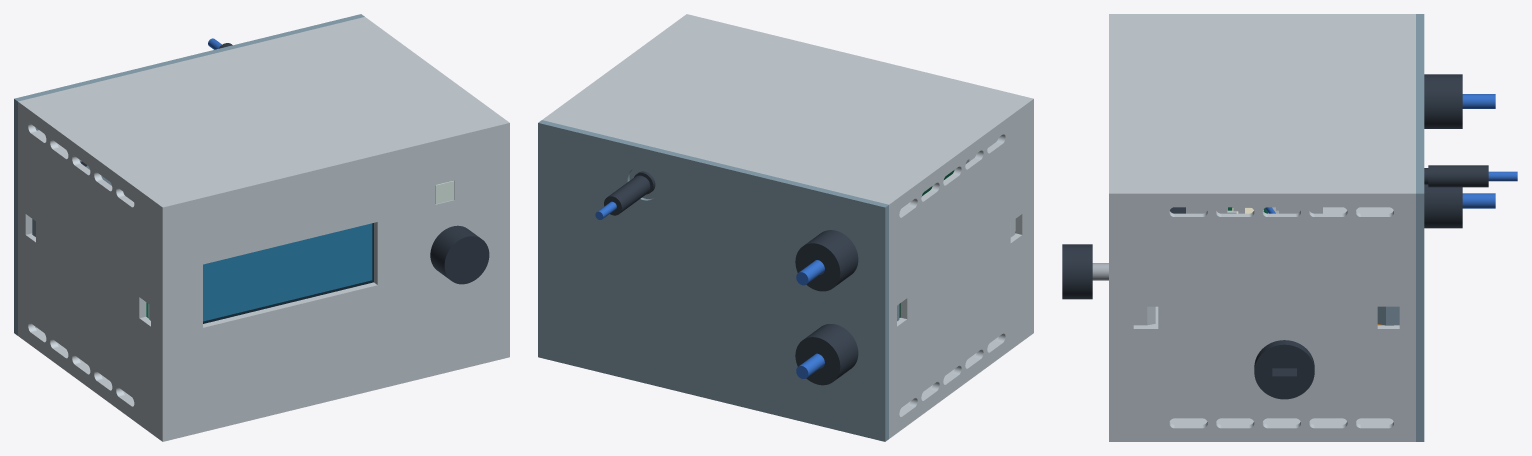
File: enclosure_assembled.glb
The picture shows the model from 3 angles, left to right: view 1: azimuth 30°, elevation 25°; view 2: azimuth 150°, elevation 25°; view 3: azimuth 270°, elevation 25°; orthographic projection. The views are drawn at different scales.
Visible parts, largest first — view 1: 01_Shell_open_front_and_rear, 02_Removable_front_LCD_A, LCD_visible_screen, Encoder_knob_TBD, 04_Rear_panel_with_latches, LCD_front_bezel_TBD; view 2: 01_Shell_open_front_and_rear, 04_Rear_panel_with_latches, 02_Removable_front_LCD_A, BULKHEAD_POWER_24V_TBD, BULKHEAD_HEATER_TBD, BULKHEAD_NTC_PROBE_PJ392_REFERENCE; view 3: 01_Shell_open_front_and_rear, 02_Removable_front_LCD_A, 04_Rear_panel_with_latches, USB_C_PANEL_DATA_EXTENSION_TBD, BULKHEAD_POWER_24V_TBD, Encoder_knob_TBD, BULKHEAD_HEATER_TBD, BULKHEAD_NTC_PROBE_PJ392_REFERENCE, CABLE_HEATER, CABLE_POWER_24V.
Part boxes in pixels (x1,y1,x2,y2): 01_Shell_open_front_and_rear: (18, 17, 505, 438); 02_Removable_front_LCD_A: (123, 120, 509, 441); LCD_visible_screen: (203, 223, 372, 321); Encoder_knob_TBD: (430, 225, 489, 284); 04_Rear_panel_with_latches: (14, 14, 364, 335); LCD_front_bezel_TBD: (203, 223, 373, 323); 01_Shell_open_front_and_rear: (542, 17, 1029, 438); 04_Rear_panel_with_latches: (538, 120, 899, 441); 02_Removable_front_LCD_A: (683, 14, 1033, 335); BULKHEAD_POWER_24V_TBD: (795, 230, 858, 291); BULKHEAD_HEATER_TBD: (795, 324, 858, 385); BULKHEAD_NTC_PROBE_PJ392_REFERENCE: (604, 171, 655, 215); 01_Shell_open_front_and_rear: (1117, 14, 1415, 441); 02_Removable_front_LCD_A: (1109, 14, 1244, 441); 04_Rear_panel_with_latches: (1377, 14, 1424, 441); USB_C_PANEL_DATA_EXTENSION_TBD: (1254, 340, 1314, 399); BULKHEAD_POWER_24V_TBD: (1424, 74, 1462, 128); Encoder_knob_TBD: (1062, 244, 1092, 299); BULKHEAD_HEATER_TBD: (1424, 184, 1462, 228); BULKHEAD_NTC_PROBE_PJ392_REFERENCE: (1424, 165, 1488, 187); CABLE_HEATER: (1462, 193, 1495, 208); CABLE_POWER_24V: (1462, 94, 1495, 108).
Bounding box in the file's own units: 159 × 100 × 166.
